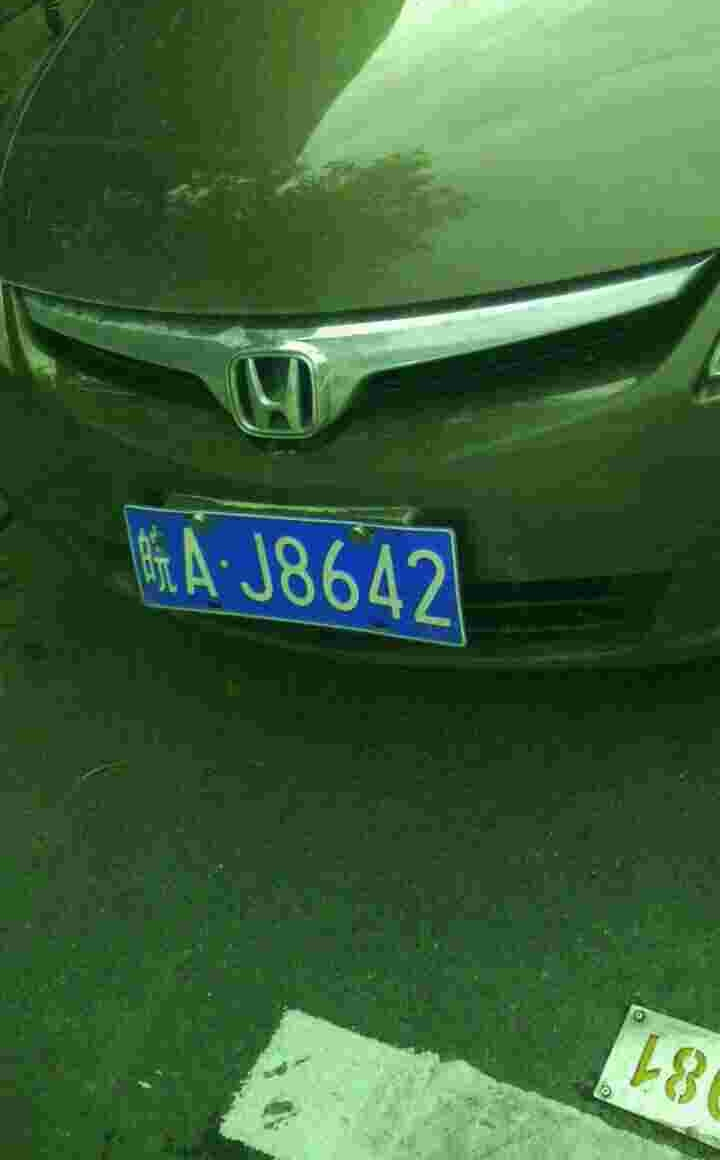license_plate: (109, 500, 460, 645)
